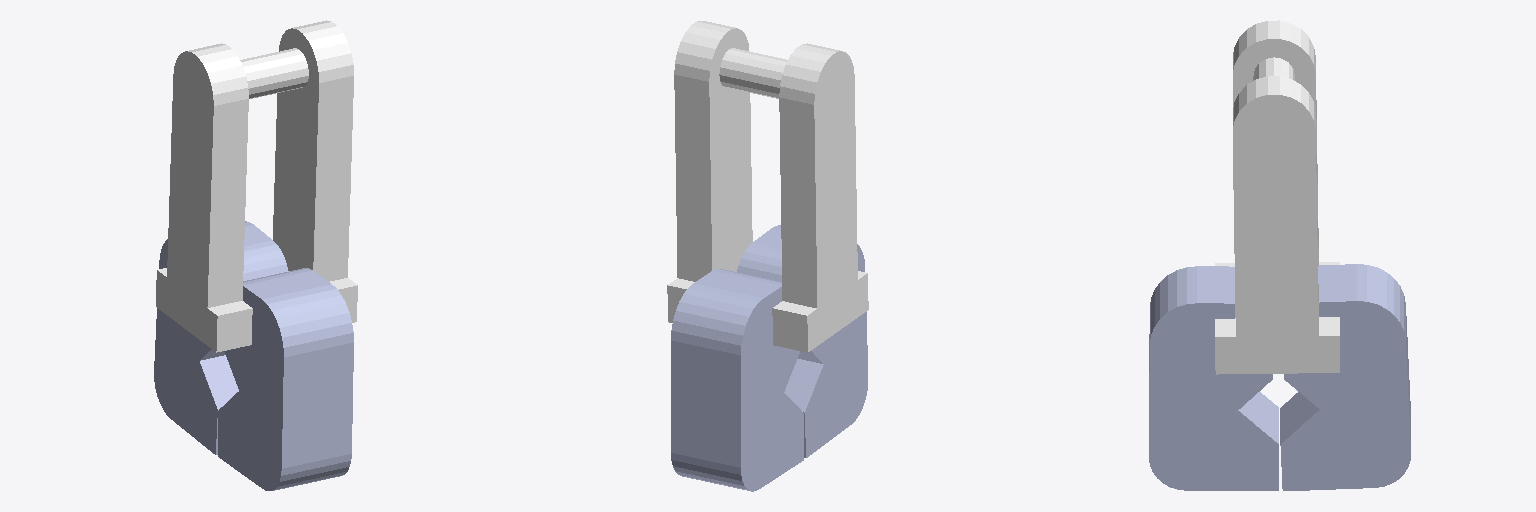
The robot description file, URDF, robot "claw4":
<?xml version="1.0" encoding="utf-8"?>
<!-- This URDF was automatically created by SolidWorks to URDF Exporter! Originally created by Stephen Brawner (brawner@gmail.com) 
     Commit Version: 1.5.1-0-g916b5db  Build Version: 1.5.7152.31018
     For more information, please see http://wiki.ros.org/sw_urdf_exporter -->
<robot
  name="claw4">
  <link
    name="P_base_Link">
    <inertial>
      <origin
        xyz="-0.0062847521117842 2.22044604925031E-16 -0.201786859514905"
        rpy="0 0 0" />
      <mass
        value="6.45985390928753" />
      <inertia
        ixx="0.0831917714950416"
        ixy="8.00954354923666E-18"
        ixz="-0.00141801465827444"
        iyy="0.0556863824606013"
        iyz="-8.67361737988404E-19"
        izz="0.0377072153961648" />
    </inertial>
    <visual>
      <origin
        xyz="0 0 0"
        rpy="0 0 0" />
      <geometry>
        <mesh
          filename="../meshes/P_base_Link.STL" />
      </geometry>
      <material
        name="">
        <color
          rgba="1 1 1 0.5" />
      </material>
    </visual>
    <collision>
      <origin
        xyz="0 0 0"
        rpy="0 0 0" />
      <geometry>
        <mesh
          filename="../meshes/P_base_Link.STL" />
      </geometry>
    </collision>
  </link>
  <link
    name="P_1_Link">
    <inertial>
      <origin
        xyz="-0.0624987281243593 0.000398726519576342 -1.11022302462516E-16"
        rpy="0 0 0" />
      <mass
        value="2.29977871437822" />
      <inertia
        ixx="0.00397637847664011"
        ixy="3.79971497935492E-05"
        ixz="-6.28837260041593E-18"
        iyy="0.00993203169150051"
        iyz="4.91279109407494E-20"
        izz="0.00993227410397426" />
    </inertial>
    <visual>
      <origin
        xyz="0 0 0"
        rpy="0 0 0" />
      <geometry>
        <mesh
          filename="../meshes/P_1_Link.STL" />
      </geometry>
      <material
        name="">
        <color
          rgba="1 1 1 0.5" />
      </material>
    </visual>
    <collision>
      <origin
        xyz="0 0 0"
        rpy="0 0 0" />
      <geometry>
        <mesh
          filename="../meshes/P_1_Link.STL" />
      </geometry>
    </collision>
  </link>
  <joint
    name="P_base_to_1_Link"
    type="revolute">
    <origin
      xyz="-0.0115182488057926 0 -0.369820672684002"
      rpy="-1.57079632679488 -1.53966089433424 0" />
    <parent
      link="P_base_Link" />
    <child
      link="P_1_Link" />
    <axis
      xyz="0 0 1" />
    <limit
      lower="-3.14"
      upper="3.14"
      effort="100"
      velocity="10" />
  </joint>
  <link
    name="P_2_Link">
    <inertial>
      <origin
        xyz="0.0261395675954537 0.156837405573887 4.40758540776187E-14"
        rpy="0 0 0" />
      <mass
        value="6.27444678594553" />
      <inertia
        ixx="0.113519091226906"
        ixy="-0.012336249299687"
        ixz="-3.95598267685648E-17"
        iyy="0.0415576369787414"
        iyz="1.51750187665344E-17"
        izz="0.0901215297519561" />
    </inertial>
    <visual>
      <origin
        xyz="0 0 0"
        rpy="0 0 0" />
      <geometry>
        <mesh
          filename="../meshes/P_2_Link.STL" />
      </geometry>
      <material
        name="">
        <color
          rgba="1 1 1 0.5" />
      </material>
    </visual>
    <collision>
      <origin
        xyz="0 0 0"
        rpy="0 0 0" />
      <geometry>
        <mesh
          filename="../meshes/P_2_Link.STL" />
      </geometry>
    </collision>
  </link>
  <joint
    name="P_1_to_2_Link"
    type="revolute">
    <origin
      xyz="-0.124997456248677 0.000797453039112106 0"
      rpy="1.57079632679489 1.39170475447566 3.13521298600109" />
    <parent
      link="P_1_Link" />
    <child
      link="P_2_Link" />
    <axis
      xyz="0 0 -1" />
    <limit
      lower="-3.14"
      upper="3.14"
      effort="100"
      velocity="10" />
  </joint>
  <link
    name="P_left_Link">
    <inertial>
      <origin
        xyz="-0.0876505435844315 -0.0341537264977404 4.03010957938932E-14"
        rpy="0 0 0" />
      <mass
        value="4.58036974856787" />
      <inertia
        ixx="0.011771753602578"
        ixy="0.000837634574500023"
        ixz="-9.19136626889323E-19"
        iyy="0.0269939517555468"
        iyz="1.2603850255144E-18"
        izz="0.0311317557771784" />
    </inertial>
    <visual>
      <origin
        xyz="0 0 0"
        rpy="0 0 0" />
      <geometry>
        <mesh
          filename="../meshes/P_left_Link.STL" />
      </geometry>
      <material
        name="">
        <color
          rgba="0.792156862745098 0.819607843137255 0.933333333333333 1" />
      </material>
    </visual>
    <collision>
      <origin
        xyz="0 0 0"
        rpy="0 0 0" />
      <geometry>
        <mesh
          filename="../meshes/P_left_Link.STL" />
      </geometry>
    </collision>
  </link>
  <joint
    name="P_2_to_left_Link"
    type="continuous">
    <origin
      xyz="0 0.304138126515083 0"
      rpy="0 0 -1.73594500421685" />
    <parent
      link="P_2_Link" />
    <child
      link="P_left_Link" />
    <axis
      xyz="-0.273290136443592 0.00381070259111247 0.961924102966759" />
    <limit
      lower="-3.14"
      upper="3.14"
      effort="500000000"
      velocity="10" />
  </joint>
  <link
    name="P_right_Link">
    <inertial>
      <origin
        xyz="0.0863889105958468 0.0372297052160662 -5.91193760612896E-14"
        rpy="0 0 0" />
      <mass
        value="4.58036974856787" />
      <inertia
        ixx="0.0117315995881393"
        ixy="0.00029797142664897"
        ixz="-6.32521853362149E-19"
        iyy="0.0270341057699855"
        iyz="-8.470329472543E-20"
        izz="0.0311317557771784" />
    </inertial>
    <visual>
      <origin
        xyz="0 0 0"
        rpy="0 0 0" />
      <geometry>
        <mesh
          filename="../meshes/P_right_Link.STL" />
      </geometry>
      <material
        name="">
        <color
          rgba="0.792156862745098 0.819607843137255 0.933333333333333 1" />
      </material>
    </visual>
    <collision>
      <origin
        xyz="0 0 0"
        rpy="0 0 0" />
      <geometry>
        <mesh
          filename="../meshes/P_right_Link.STL" />
      </geometry>
    </collision>
  </link>
  <joint
    name="P_2_to_right_Link"
    type="continuous">
    <origin
      xyz="0.0986393923834267 0.287698227783769 0"
      rpy="-3.14159265358979 0 1.447930450626" />
    <parent
      link="P_2_Link" />
    <child
      link="P_right_Link" />
    <axis
      xyz="-0.272884794791439 -0.015359326262194 0.96192410296676" />
    <limit
      lower="-3.14"
      upper="3.14"
      effort="500000000"
      velocity="10" />
  </joint>
</robot>

--- What the picture shows (computed from the rendered views, not written in the file) ---
3 views of the same robot in one strip: view 1: azimuth 30°, elevation 25°; view 2: azimuth 150°, elevation 25°; view 3: azimuth 270°, elevation 25° (orthographic).
Model claw4 with 5 links and 4 joints (2 revolute, 2 continuous), rooted at P_base_Link, posed every joint at zero.
Visible links, largest first — view 1: P_2_Link, P_right_Link, P_left_Link; view 2: P_2_Link, P_left_Link, P_right_Link; view 3: P_2_Link, P_left_Link, P_right_Link.
Boxes of the visible links, x1,y1,x2,y2 form: P_2_Link: [156, 20, 357, 352]; P_right_Link: [218, 268, 353, 490]; P_left_Link: [154, 221, 288, 454]; P_2_Link: [667, 21, 868, 352]; P_left_Link: [671, 269, 803, 491]; P_right_Link: [737, 225, 867, 457]; P_2_Link: [1215, 20, 1339, 374]; P_left_Link: [1280, 264, 1410, 490]; P_right_Link: [1149, 266, 1278, 490].
Bounding box of the posed robot: 0.2092 × 0.3152 × 0.5609 m (x, y, z).
Meshes: 5 distinct files referenced, 3 mesh visuals loaded (3 binary STL); not drawn: 2 (reference not matched to a file when rendering).
